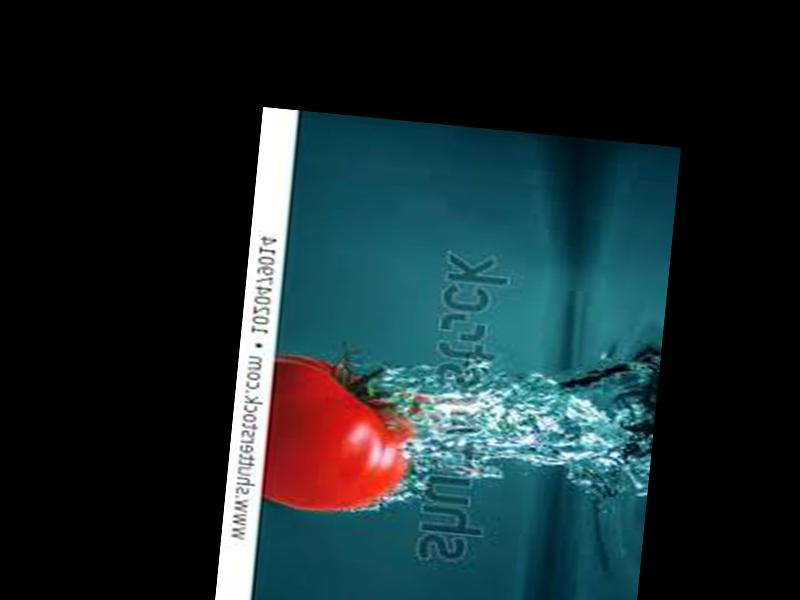Tomato: (260, 352, 418, 518)
